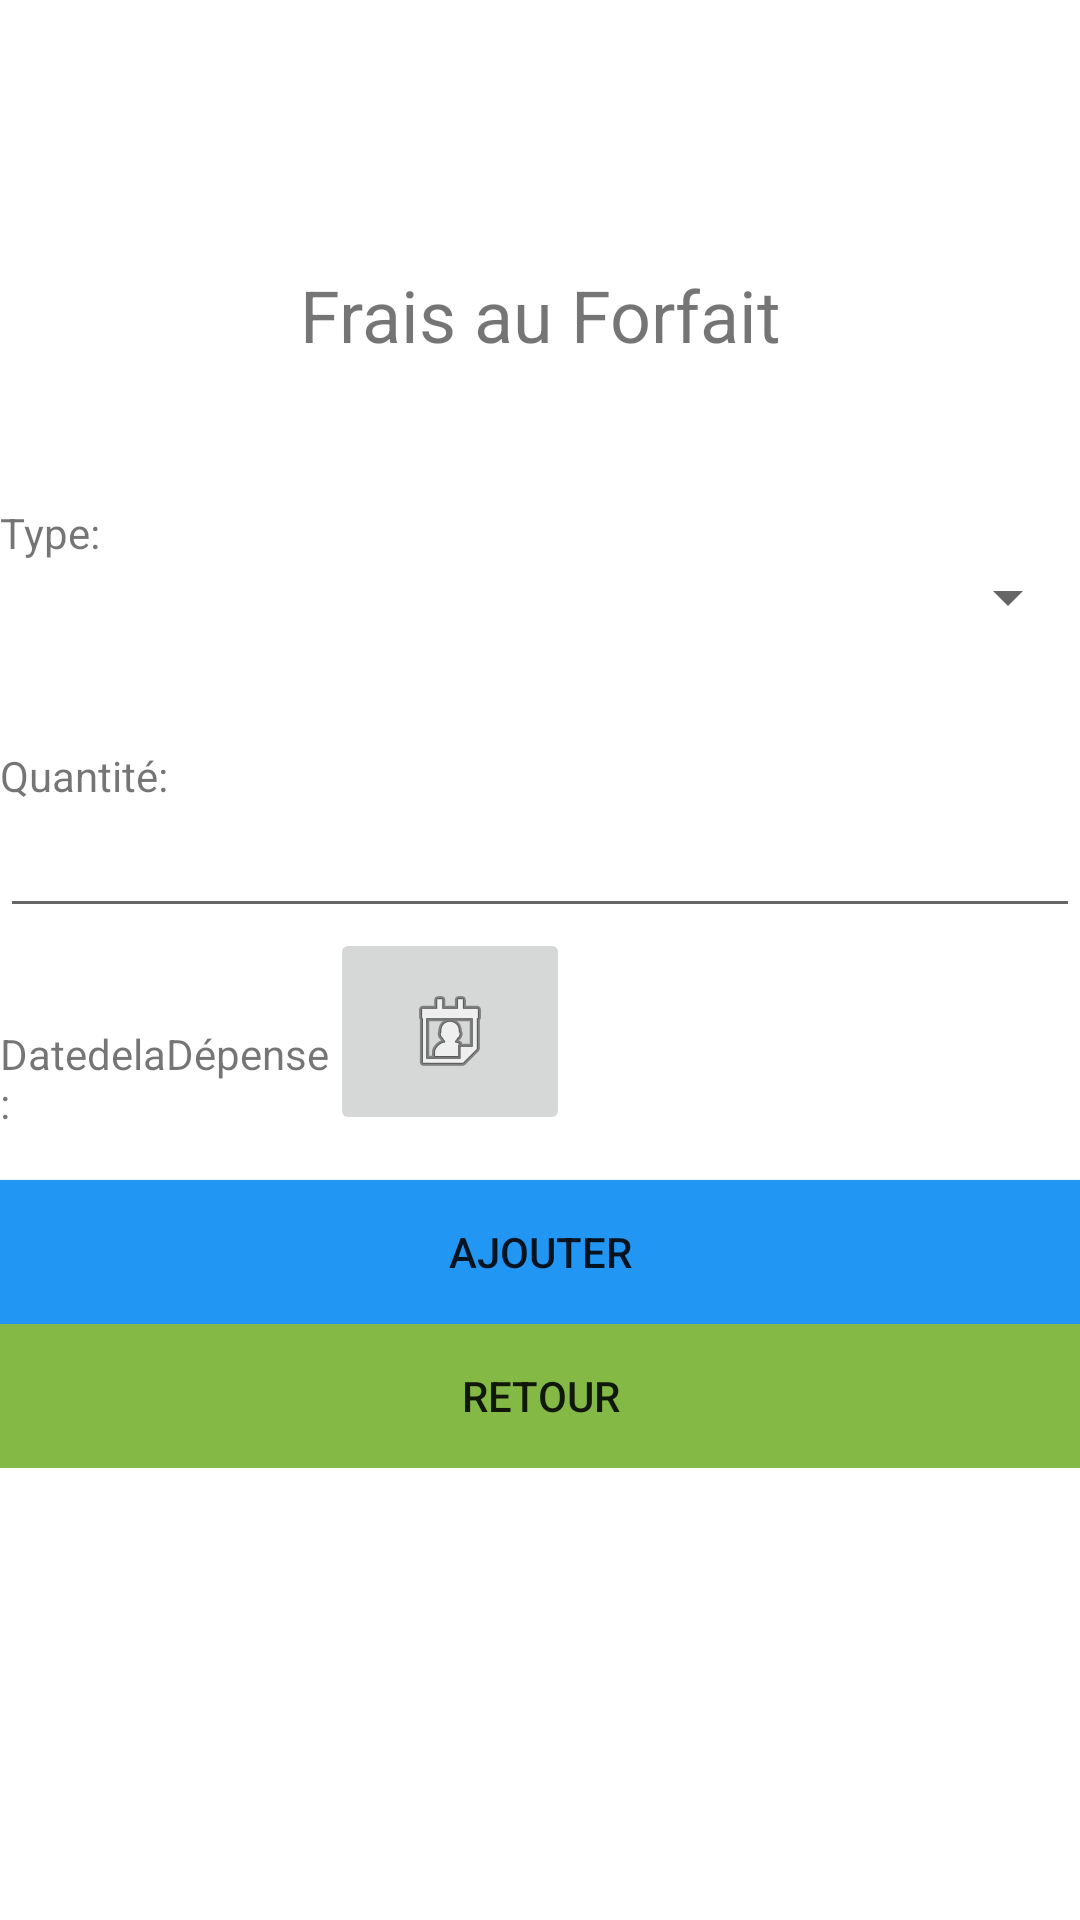

Named icons in this screenshot (1080w x 1920h) and their centers, [x,y]:
calendar: [450,1031]
